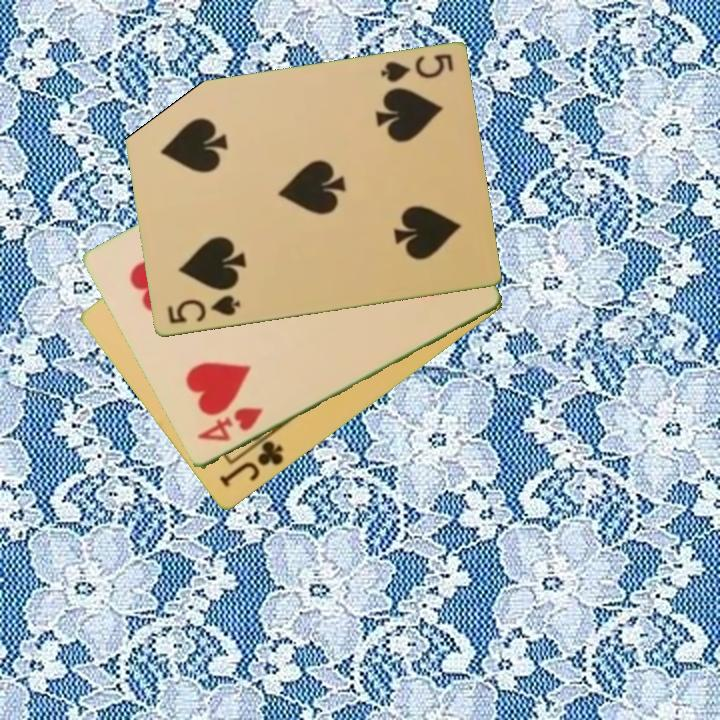4h: (193, 404, 266, 446)
5s: (163, 292, 243, 327), (377, 51, 456, 86)
Jc: (215, 437, 287, 491)
